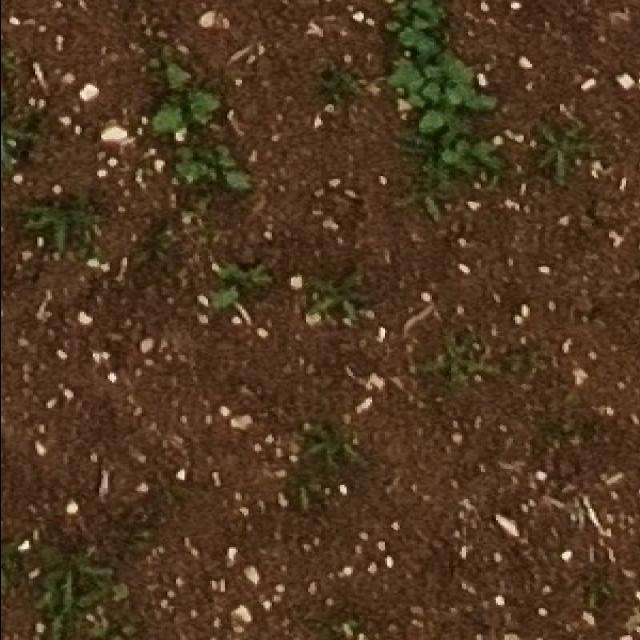cirse: (31, 532, 121, 631), (33, 508, 115, 609), (28, 555, 115, 640), (296, 271, 391, 335), (283, 250, 371, 316), (302, 259, 394, 322), (409, 316, 487, 382), (418, 343, 498, 406), (10, 197, 97, 253), (10, 211, 95, 268), (429, 316, 504, 380), (12, 207, 93, 263), (215, 248, 291, 307), (524, 124, 594, 187), (196, 268, 270, 327), (194, 261, 265, 321), (542, 116, 607, 178), (509, 120, 578, 177), (309, 405, 373, 457), (293, 403, 357, 451), (0, 109, 40, 183), (288, 405, 348, 454), (0, 103, 40, 175), (0, 108, 40, 179), (289, 473, 337, 512), (299, 485, 348, 522), (276, 471, 322, 509)
